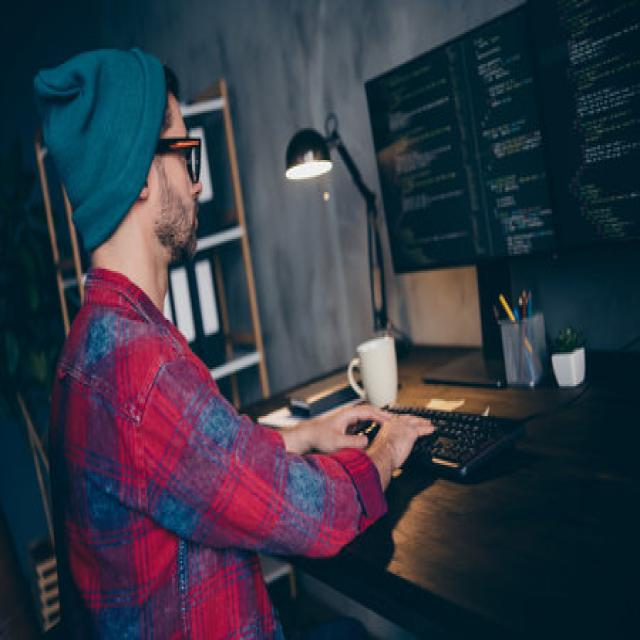desktop-person: (24, 4, 639, 640)
